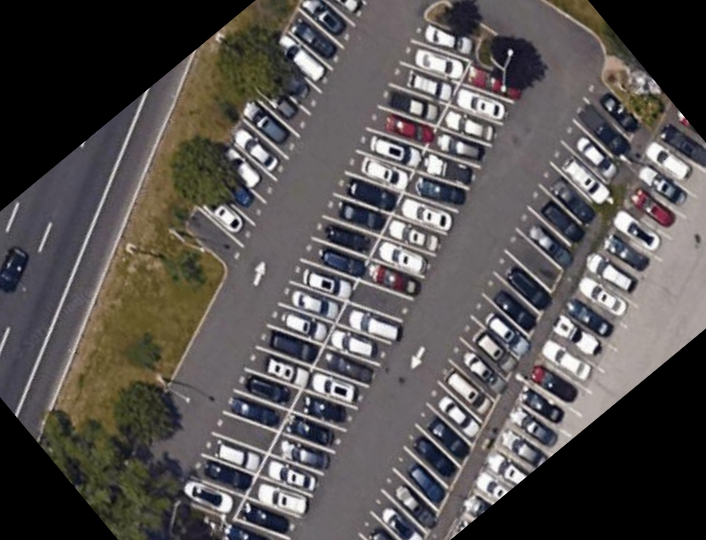parkingspot: (171, 14, 540, 540), (351, 67, 647, 540), (445, 101, 706, 540), (182, 0, 372, 276)
